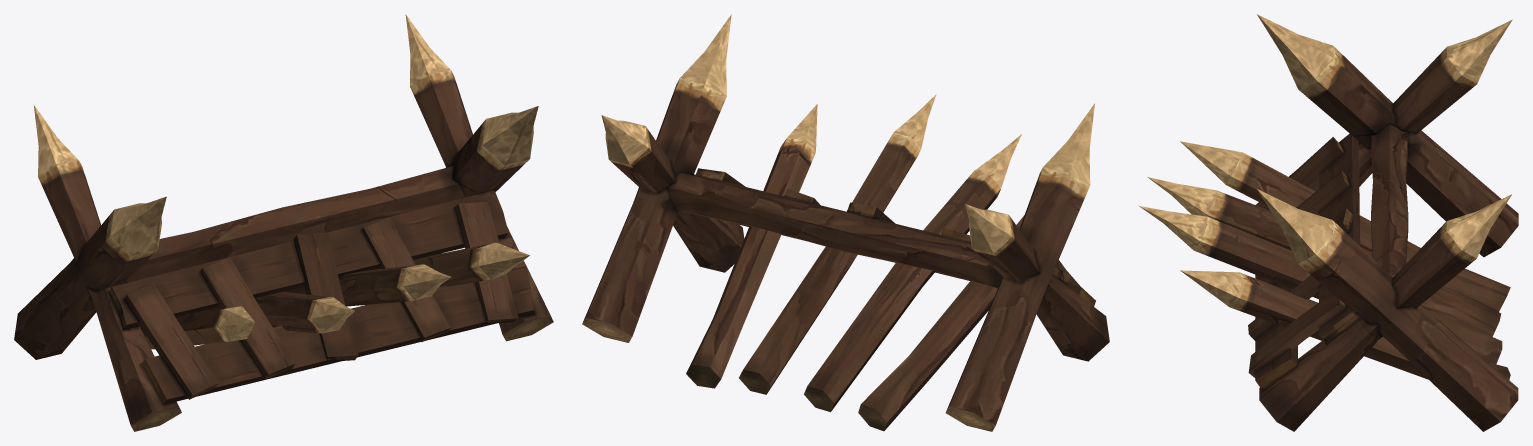
The model's file is barricade_a.FBX.
The picture shows the model from 3 angles, left to right: view 1: azimuth 30°, elevation 25°; view 2: azimuth 150°, elevation 25°; view 3: azimuth 270°, elevation 25°; orthographic projection. The views are drawn at different scales.
Visible parts, largest first — view 1: barricade_a; view 2: barricade_a; view 3: barricade_a.
Part boxes in pixels (bbox=[...]): barricade_a: bbox=[14, 14, 553, 431]; barricade_a: bbox=[582, 14, 1109, 431]; barricade_a: bbox=[1138, 14, 1518, 431].
Bounding box in the file's own units: 79.64 × 47.9 × 64.45.
